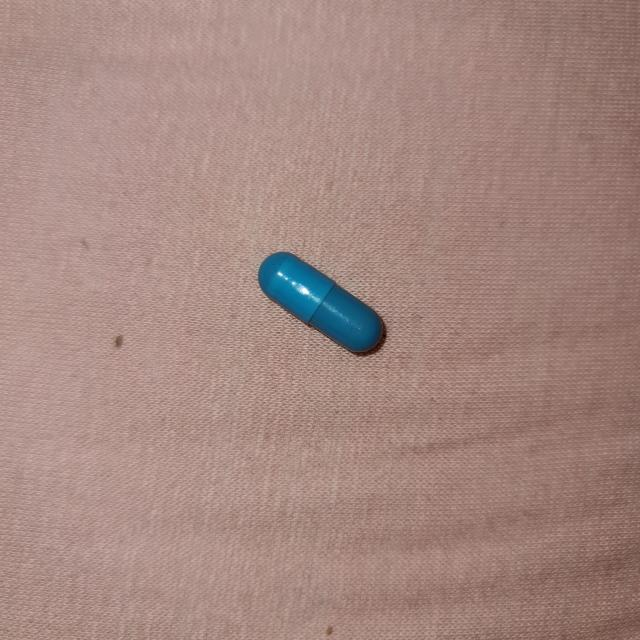pill: (257, 250, 389, 358)
